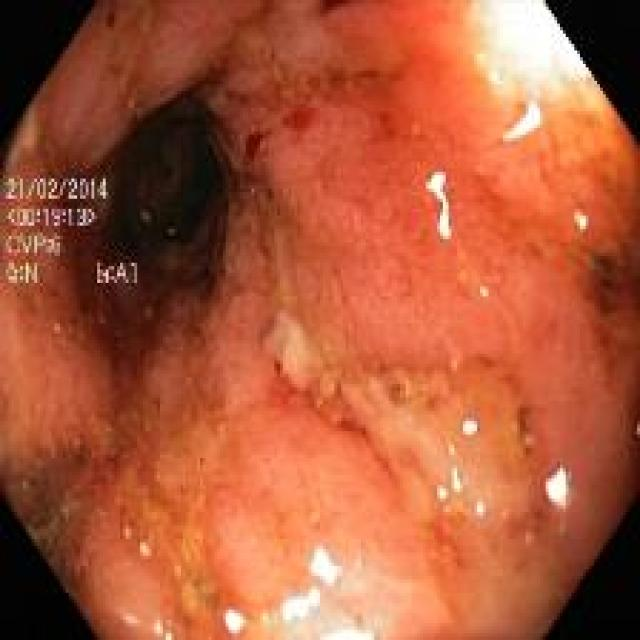ulcerative-colitis-grade-3: (0, 3, 639, 639)
